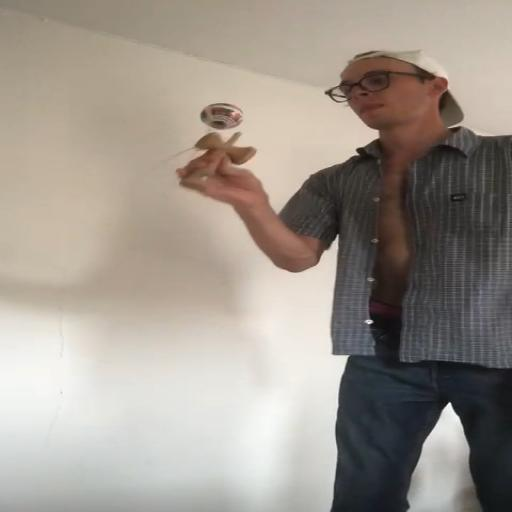kendama_ball: (201, 103, 243, 129)
